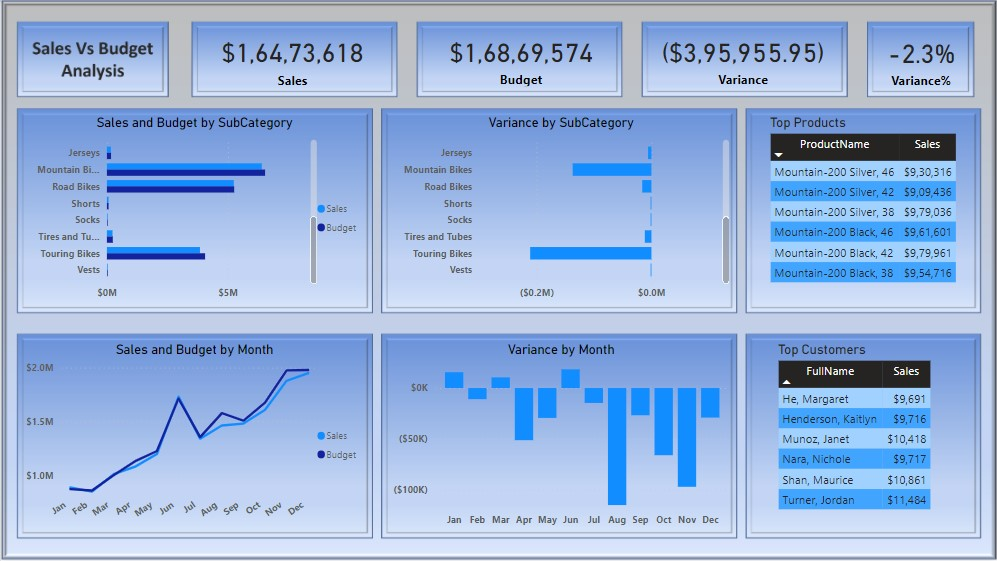

This screenshot's page, from the dashboard's own definition file:
{"tool":"powerbi","page":{"name":"Sales and Budget","canvas":[1280,720],"ordinal":0},"visuals":[{"type":"clusteredBarChart","fields":{"Y":["Sales.Sales","Budget.Budget"],"Category":["Product.Category","Product.SubCategory"]},"box":[27.3,147.9,443.6,245.7],"z":1000},{"type":"tableEx","title":"Top Products","fields":{"Values":["Product.ProductName","Sales.Sales"]},"box":[983.1,147.8,268.6,245.5],"z":2000},{"type":"tableEx","title":"Top Customers","fields":{"Values":["Customer.FullName","Sales.Sales"]},"box":[993.4,439.5,248,245.5],"z":3000},{"type":"card","fields":{"Values":["Budget.Variance%"]},"box":[1122.7,36.4,119.4,80.8],"z":4000},{"type":"card","fields":{"Values":["Budget.Variance"]},"box":[830.3,35.3,246.8,80.8],"z":5000},{"type":"card","fields":{"Values":["Budget.Budget"]},"box":[544.8,35.3,247,80.8],"z":6000},{"type":"card","fields":{"Values":["Sales.Sales"]},"box":[250.2,35.3,248,81.9],"z":7000},{"type":"clusteredBarChart","fields":{"Category":["Product.Category","Product.SubCategory"],"Y":["Budget.Variance"]},"box":[498.2,147.9,442.5,245.7],"z":8000},{"type":"lineChart","fields":{"Y":["Sales.Sales","Budget.Budget"],"Category":["Calendar.Month"]},"box":[27.3,439.1,443.6,245.7],"z":9000},{"type":"clusteredColumnChart","fields":{"Category":["Calendar.Month"],"Y":["Budget.Variance"]},"box":[498.2,439.1,442.5,245.7],"z":10000}]}

Visuals, with their boxes in screenshot pixels (x1, y1, x2, y2), scaled from the page's 1280x720 canvas onto the 997x561 screenshot:
clusteredBarChart - Sales.Sales x Budget.Budget: box(21, 115, 367, 307)
"Top Products" tableEx: box(766, 115, 975, 306)
"Top Customers" tableEx: box(774, 342, 967, 534)
card - Budget.Variance%: box(874, 28, 967, 91)
card - Budget.Variance: box(647, 28, 839, 90)
card - Budget.Budget: box(424, 28, 617, 90)
card - Sales.Sales: box(195, 28, 388, 91)
clusteredBarChart - Product.Category x Product.SubCategory: box(388, 115, 733, 307)
lineChart - Sales.Sales x Budget.Budget: box(21, 342, 367, 534)
clusteredColumnChart - Calendar.Month x Budget.Variance: box(388, 342, 733, 534)
